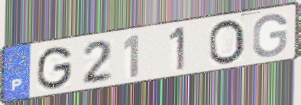1: (167, 25, 186, 73), (123, 33, 141, 79)
2: (81, 39, 115, 87)
G: (35, 45, 75, 92), (251, 13, 289, 59)
O: (207, 18, 247, 67)
